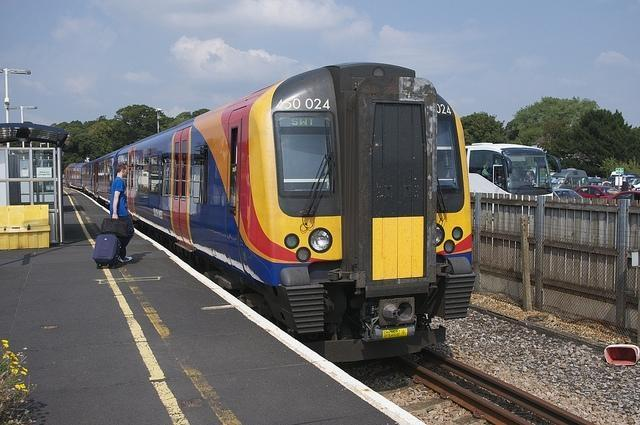bus: (466, 142, 562, 196)
car: (550, 170, 588, 190), (576, 186, 618, 199), (552, 188, 584, 204), (607, 191, 640, 206), (588, 179, 612, 186), (626, 174, 640, 183), (630, 180, 640, 191), (608, 177, 616, 186)
